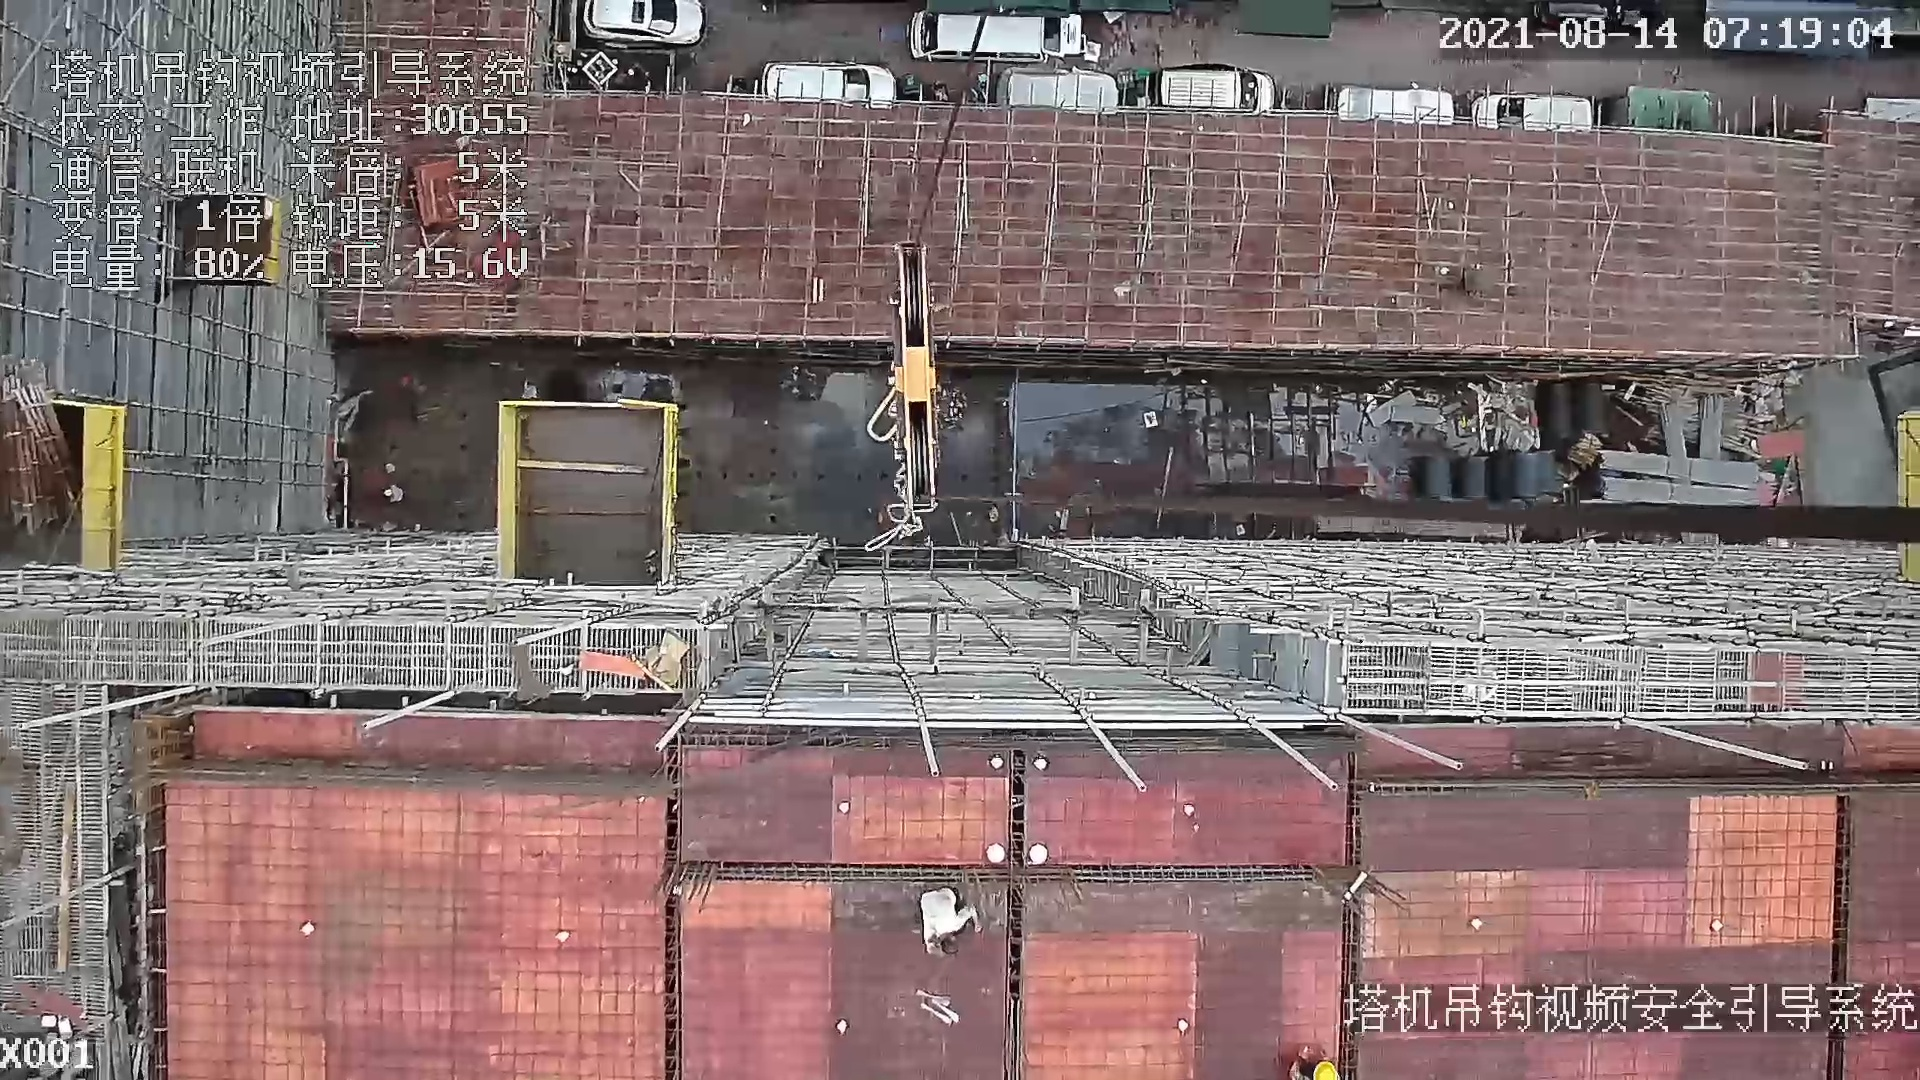helmet: (1312, 1064, 1339, 1080)
hook: (865, 233, 953, 514)
person: (917, 885, 981, 956)
